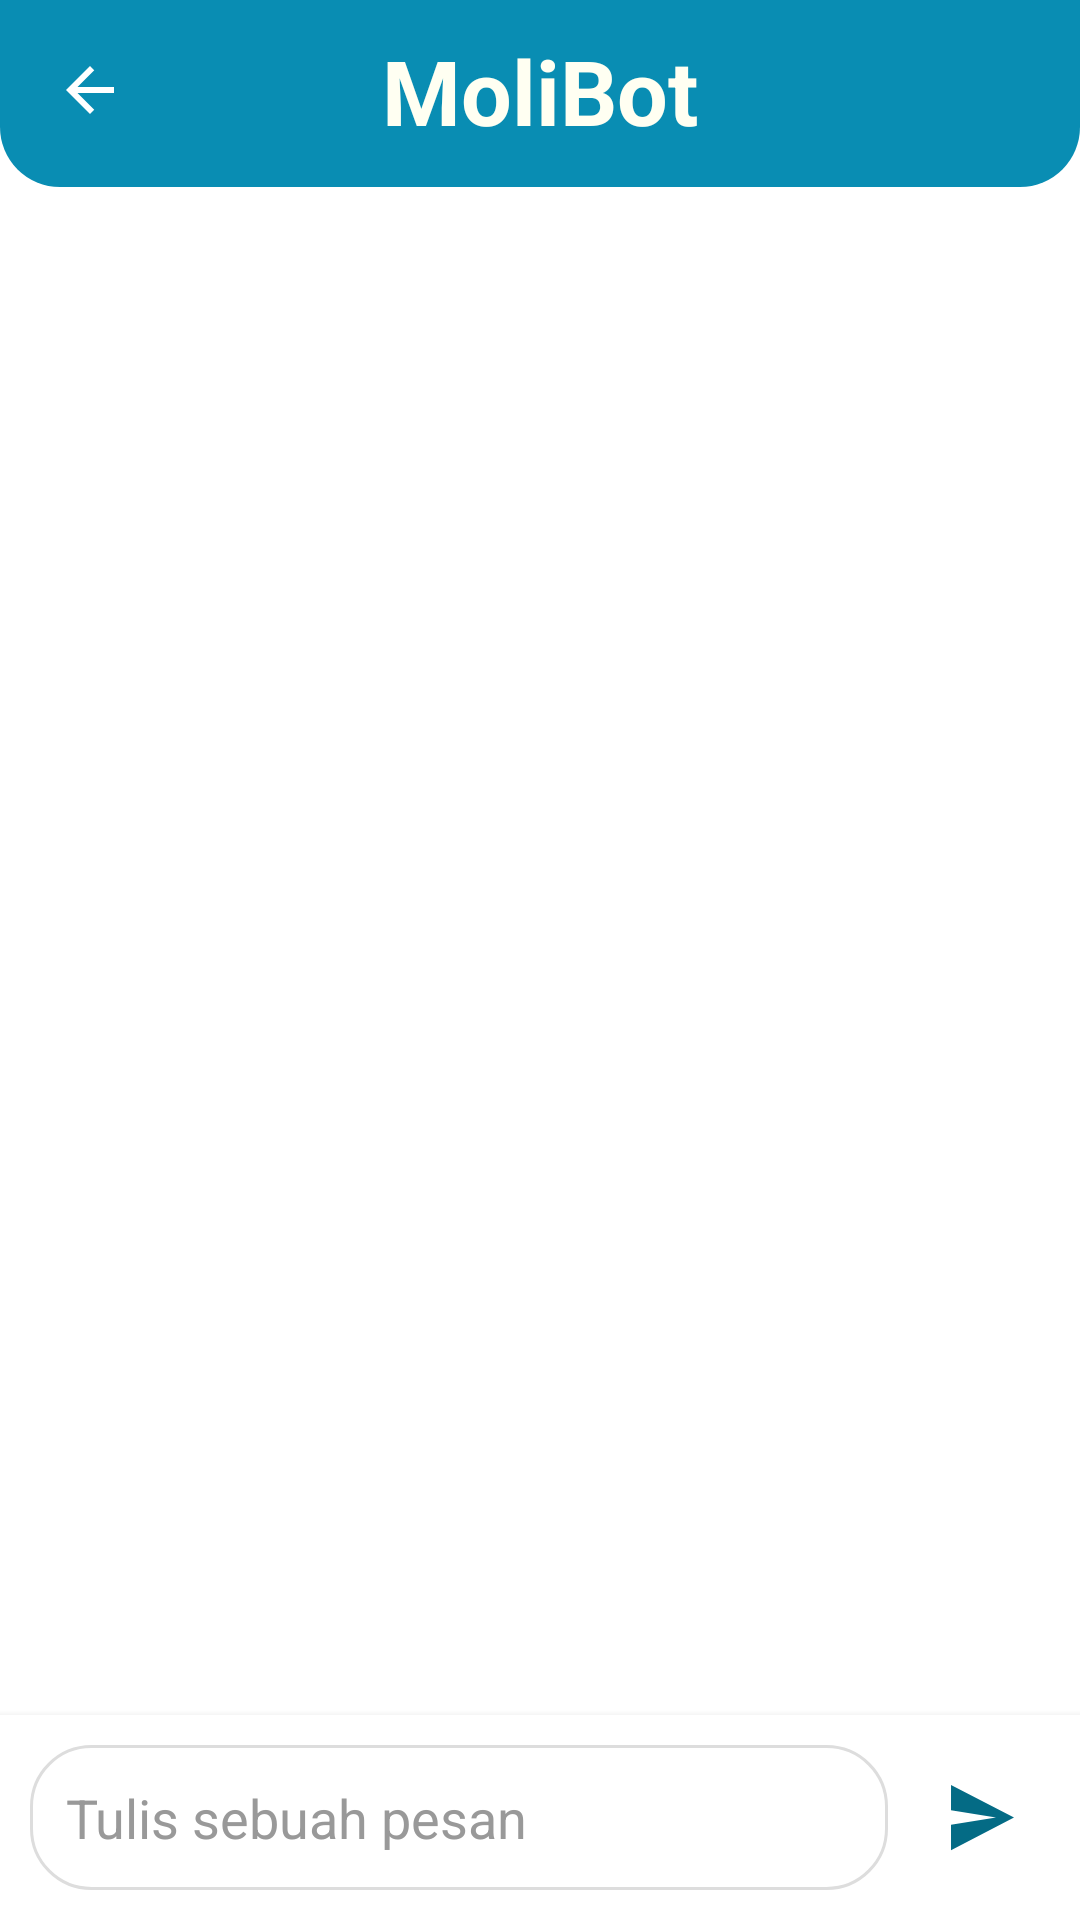

Where to tap for icons on this 1080px x 1920px app screen, as point (x, y):
arrow back: point (90, 90)
Send Message: point (982, 1817)
